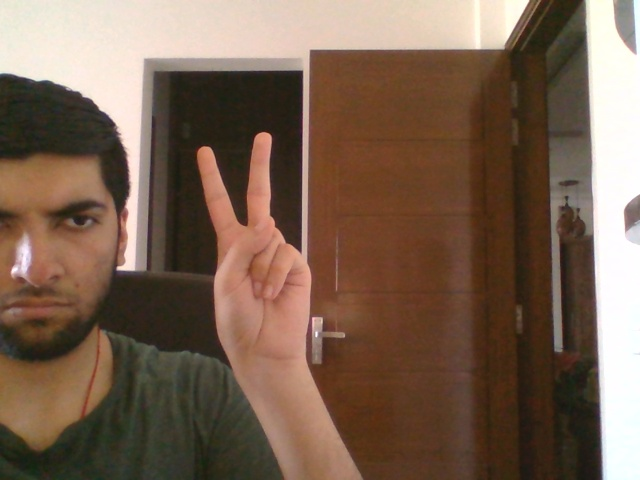LetterK: (195, 131, 312, 361)
